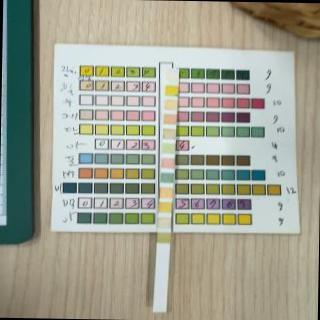mark: (162, 172, 174, 184), (160, 188, 172, 199), (163, 129, 174, 140), (166, 99, 177, 110), (159, 233, 171, 243), (158, 218, 170, 228), (165, 113, 175, 125), (166, 70, 178, 80), (165, 86, 178, 95), (163, 159, 175, 168), (164, 143, 173, 153), (160, 204, 170, 212)
